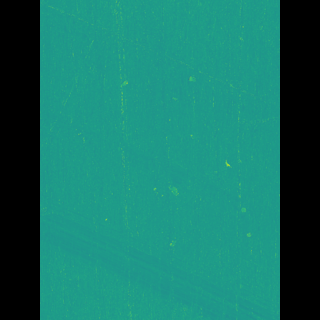Loch: (69, 195, 249, 320), (68, 105, 233, 221), (162, 182, 175, 199), (179, 74, 188, 86)
